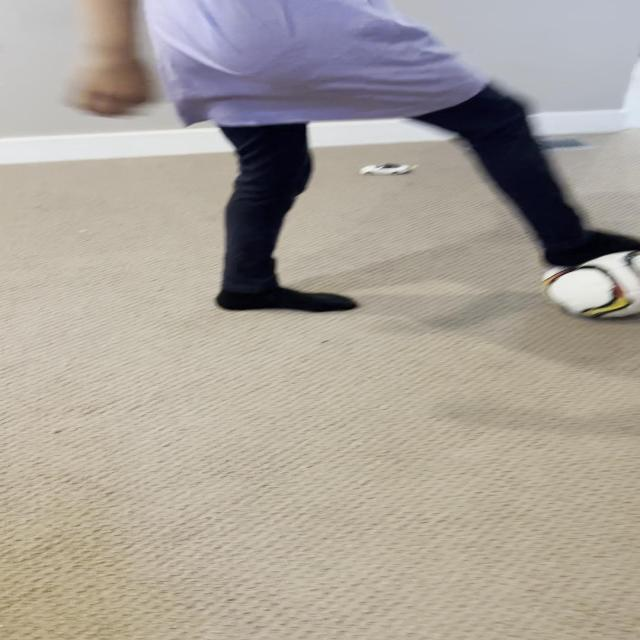Soccer Ball: (543, 243, 640, 319)
